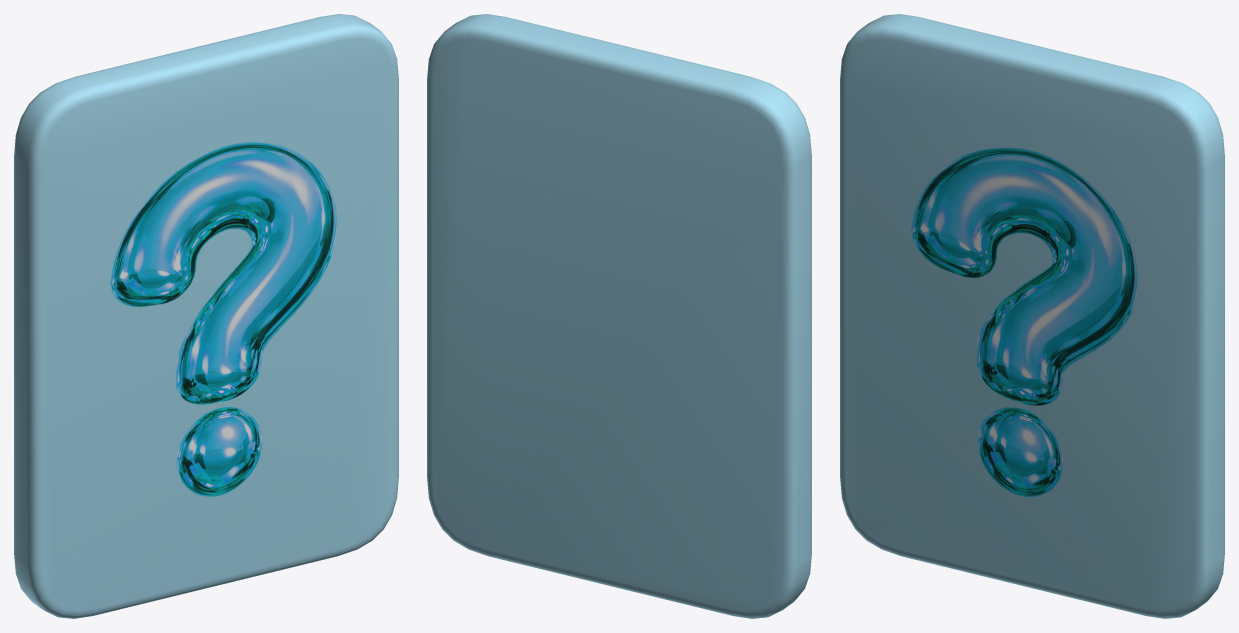
Rendered from card.glb.
3 renders of one model, left to right at view 1: azimuth 30°, elevation 25°; view 2: azimuth 150°, elevation 25°; view 3: azimuth 330°, elevation 25°, orthographic.
Parts seen in each view (by area): view 1: CardBaseBlue, TransPlane001; view 2: CardBaseBlue; view 3: CardBaseBlue, TransPlane001.
Part boxes in pixels (x1,y1,x2,y2): CardBaseBlue: [14, 14, 398, 618]; TransPlane001: [110, 142, 336, 496]; CardBaseBlue: [427, 14, 811, 618]; CardBaseBlue: [840, 14, 1224, 618]; TransPlane001: [911, 147, 1137, 496].
Bounding box in the file's own units: 11.61 × 15.88 × 1.31.
Materials: 2 (2 with a texture image).
